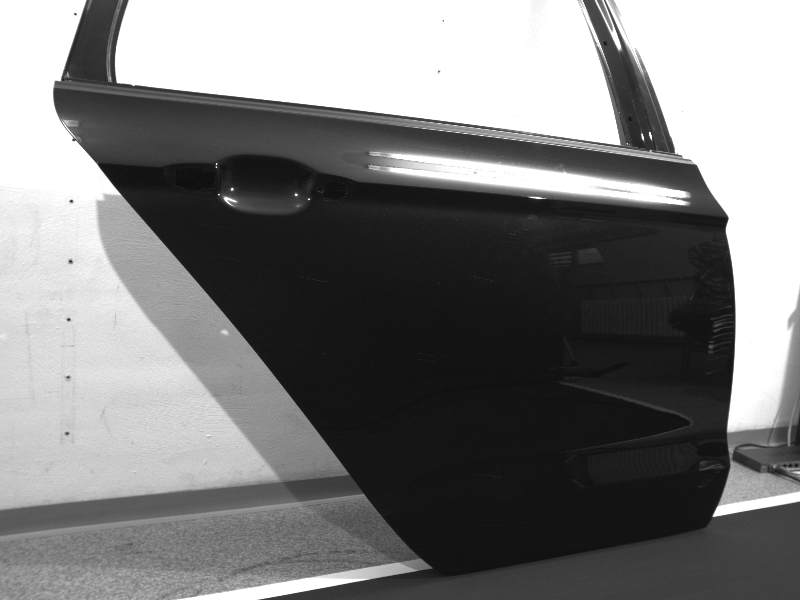scratch: (704, 298, 735, 375), (697, 458, 725, 489), (415, 350, 445, 363), (469, 274, 497, 283), (300, 276, 329, 283)
